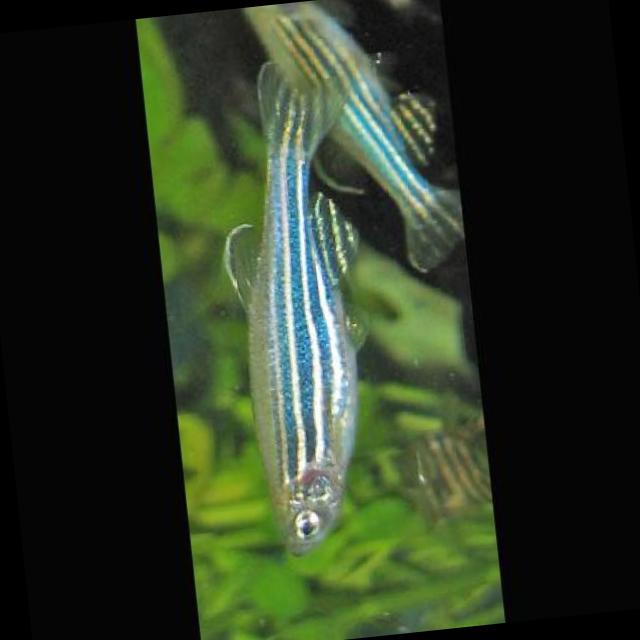ZebraFish: (201, 56, 394, 564)
